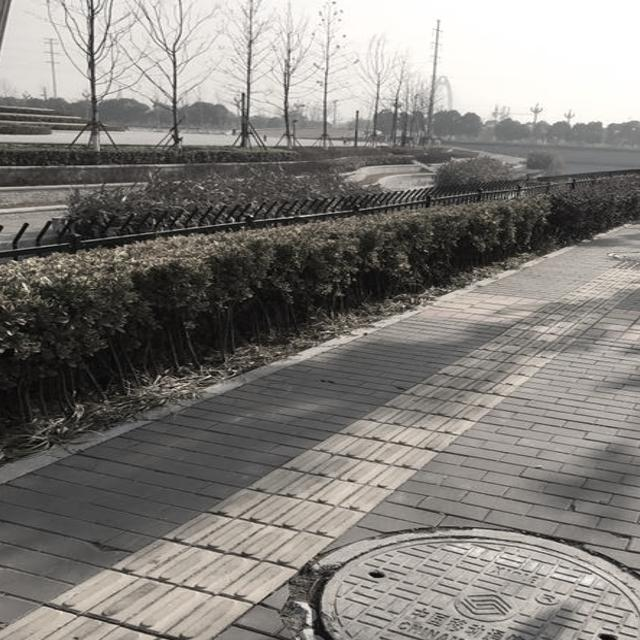circle: (283, 527, 640, 640)
